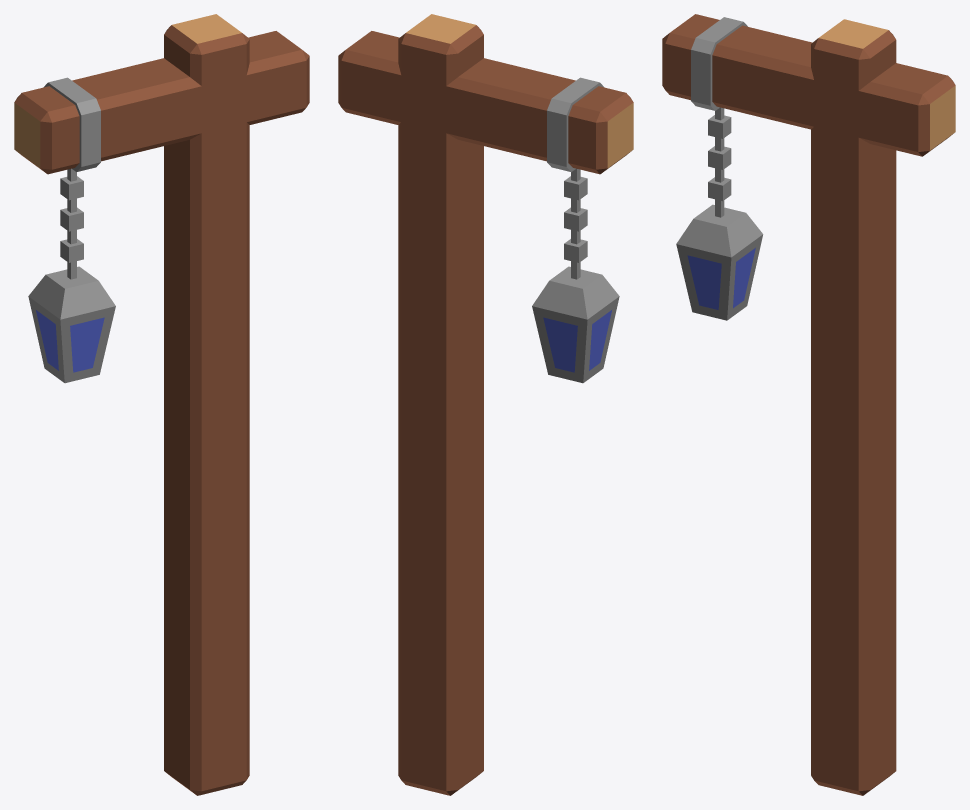
The model's file is Light.fbx.
3 views of the same model, side by side, from view 1: azimuth 30°, elevation 25°; view 2: azimuth 150°, elevation 25°; view 3: azimuth 330°, elevation 25° (orthographic).
Visible parts, largest first — view 1: Light_Pillar, Light; view 2: Light_Pillar, Light; view 3: Light_Pillar, Light.
Boxes of the visible parts, x1,y1,x2,y2 form: Light_Pillar: (14, 14, 309, 795); Light: (28, 168, 115, 383); Light_Pillar: (338, 14, 633, 795); Light: (532, 168, 619, 383); Light_Pillar: (662, 14, 955, 795); Light: (676, 107, 763, 320).
Bounding box in the file's own units: 0.45 × 1.2 × 0.11.
Materials: 1 (1 with a texture image).
